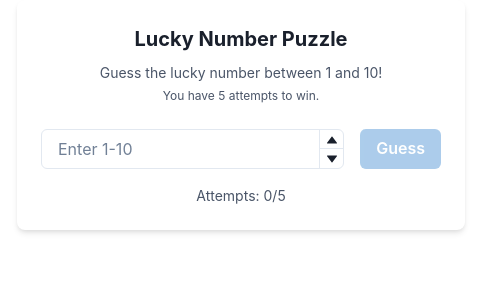
it: LuckyNumberPuzzle › should handle Enter key press
Note: Enter correct guess and press Enter
Type "6" into the number field with placeholder "Enter 1-10". click: (193, 149)
box: [41,129,344,169]
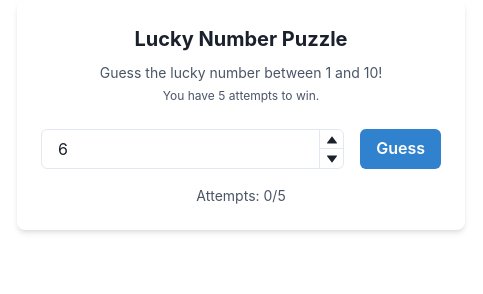
Press Enter in the number field with placeholder "Enter 1-10", box [41,129,344,169]
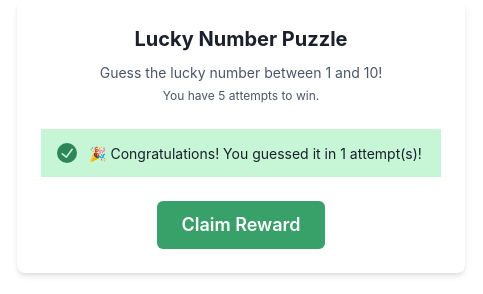
Now the text "🎉 Congratulations! You guessed it in 1 attempt(s)!" is shown, box [89,142,422,164]
